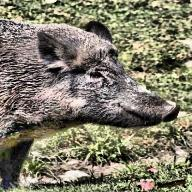boar: (0, 13, 181, 173)
